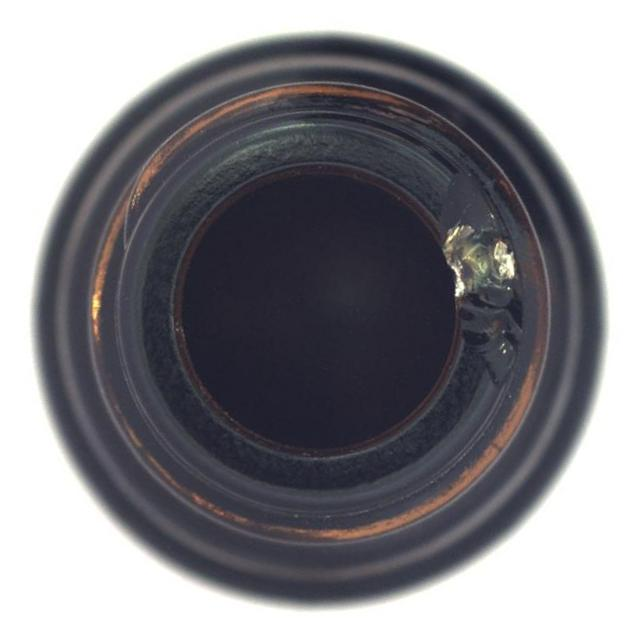bad-broken_small: (30, 27, 610, 610)
